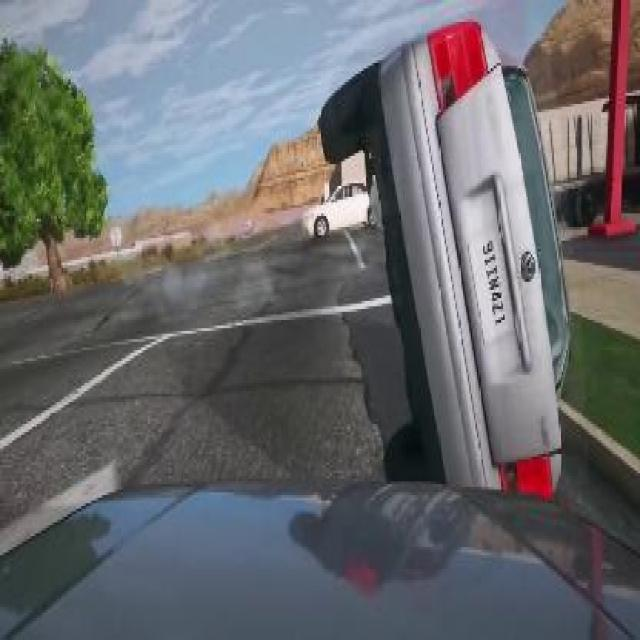accident: (315, 8, 580, 517)
